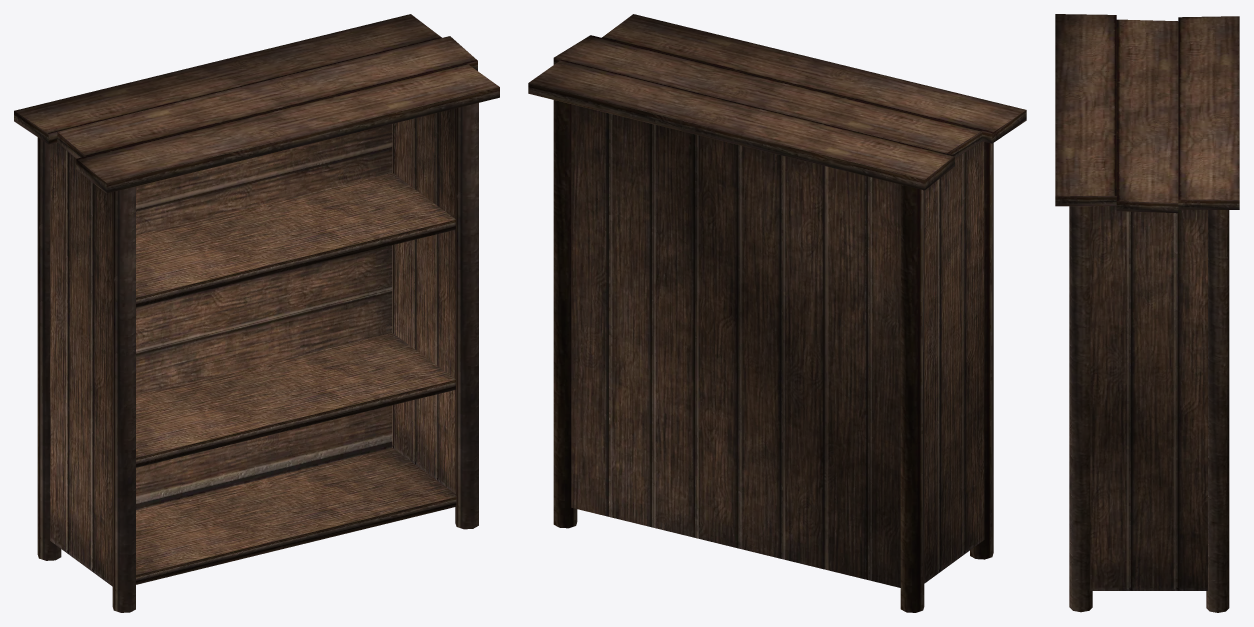
File: GS_BOOKSHELF_OPEN_ORANGE_01_KOZA.glb
3 renders of one model, left to right at view 1: azimuth 30°, elevation 25°; view 2: azimuth 150°, elevation 25°; view 3: azimuth 270°, elevation 25°, orthographic. The views are drawn at different scales.
Parts seen in each view (by area): view 1: Mesh; view 2: Mesh; view 3: Mesh.
Part boxes in pixels (box(x1,y1,x2,y2)): Mesh: box(14, 14, 499, 612); Mesh: box(528, 14, 1026, 612); Mesh: box(1055, 14, 1239, 612).
Bounding box in the file's own units: 1.4 × 1.45 × 0.5777.
2 materials, 2 textured.
